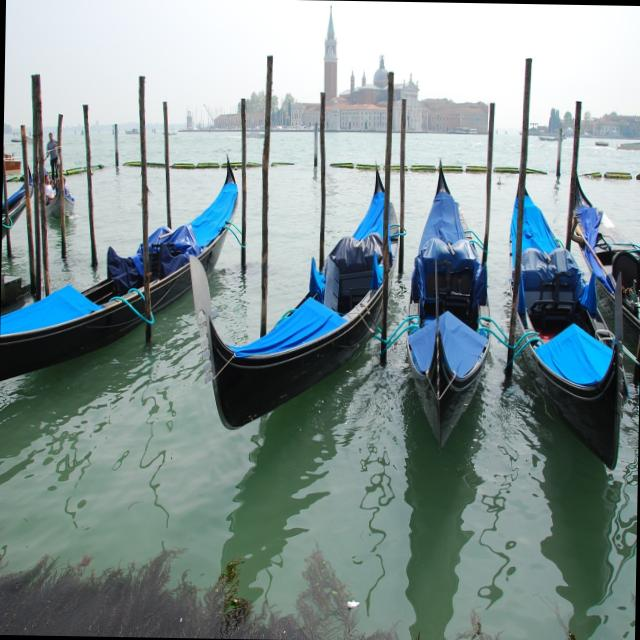boat: (0, 110, 247, 406), (174, 150, 400, 462), (499, 154, 634, 479), (401, 132, 502, 472)
